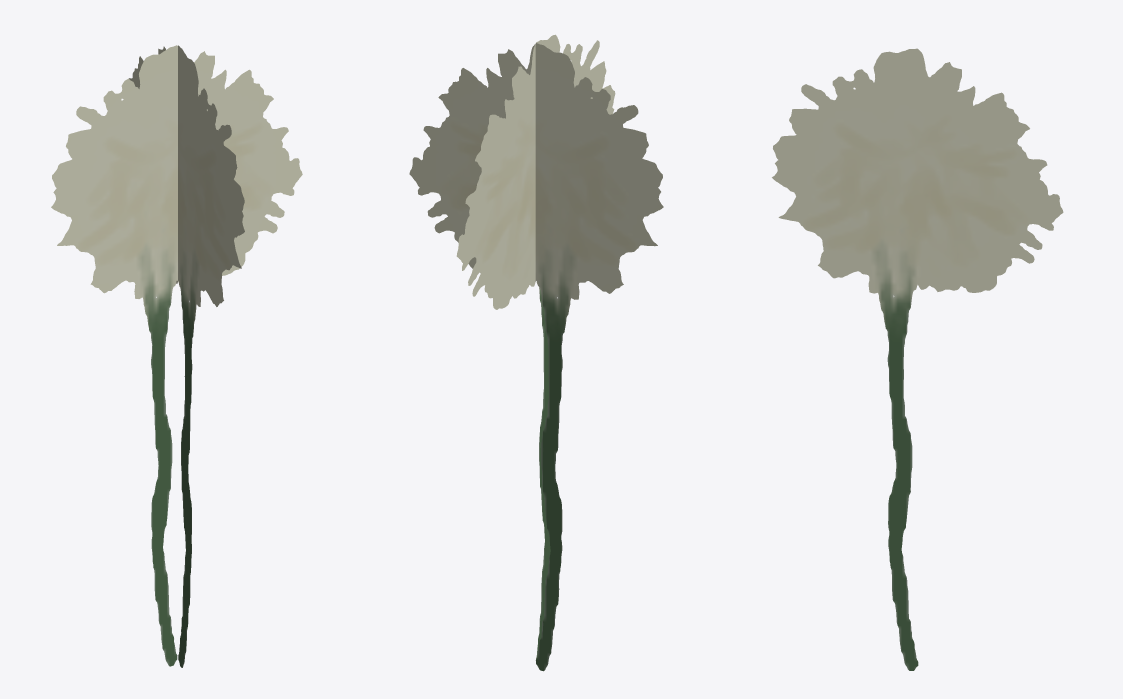
The model's file is Flower_05.fbx.
3 renders of one model, left to right at view 1: azimuth 30°, elevation 25°; view 2: azimuth 150°, elevation 25°; view 3: azimuth 270°, elevation 25°, orthographic.
Parts seen in each view (by area): view 1: SM_Dandelion; view 2: SM_Dandelion; view 3: SM_Dandelion.
Boxes of the visible parts, <box> form: SM_Dandelion: <box>51,45,302,667</box>; SM_Dandelion: <box>409,34,663,671</box>; SM_Dandelion: <box>772,48,1063,670</box>.
Size of the model in its own units: 10 by 18.85 by 9.99.
